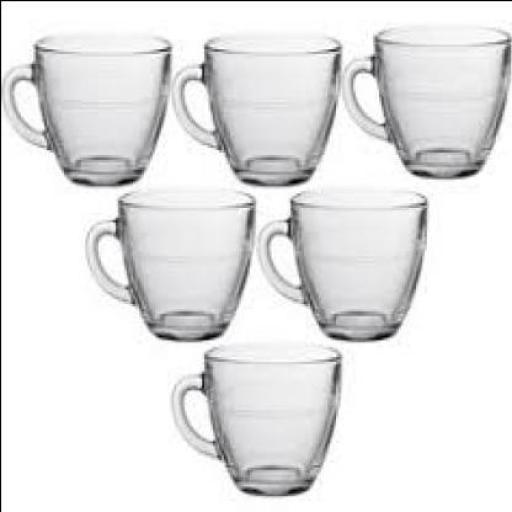glass: (173, 339, 341, 493), (86, 185, 256, 337), (4, 31, 173, 183), (259, 185, 428, 337), (175, 31, 343, 183), (343, 21, 511, 173)
